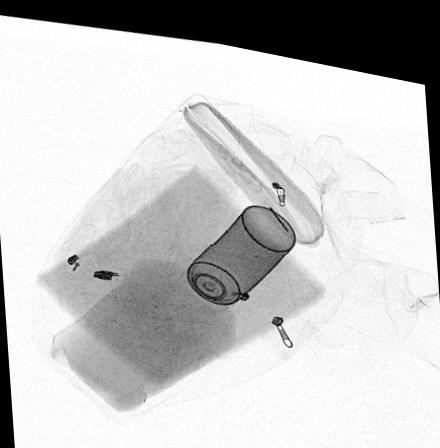Sprayer: (170, 192, 297, 310)
